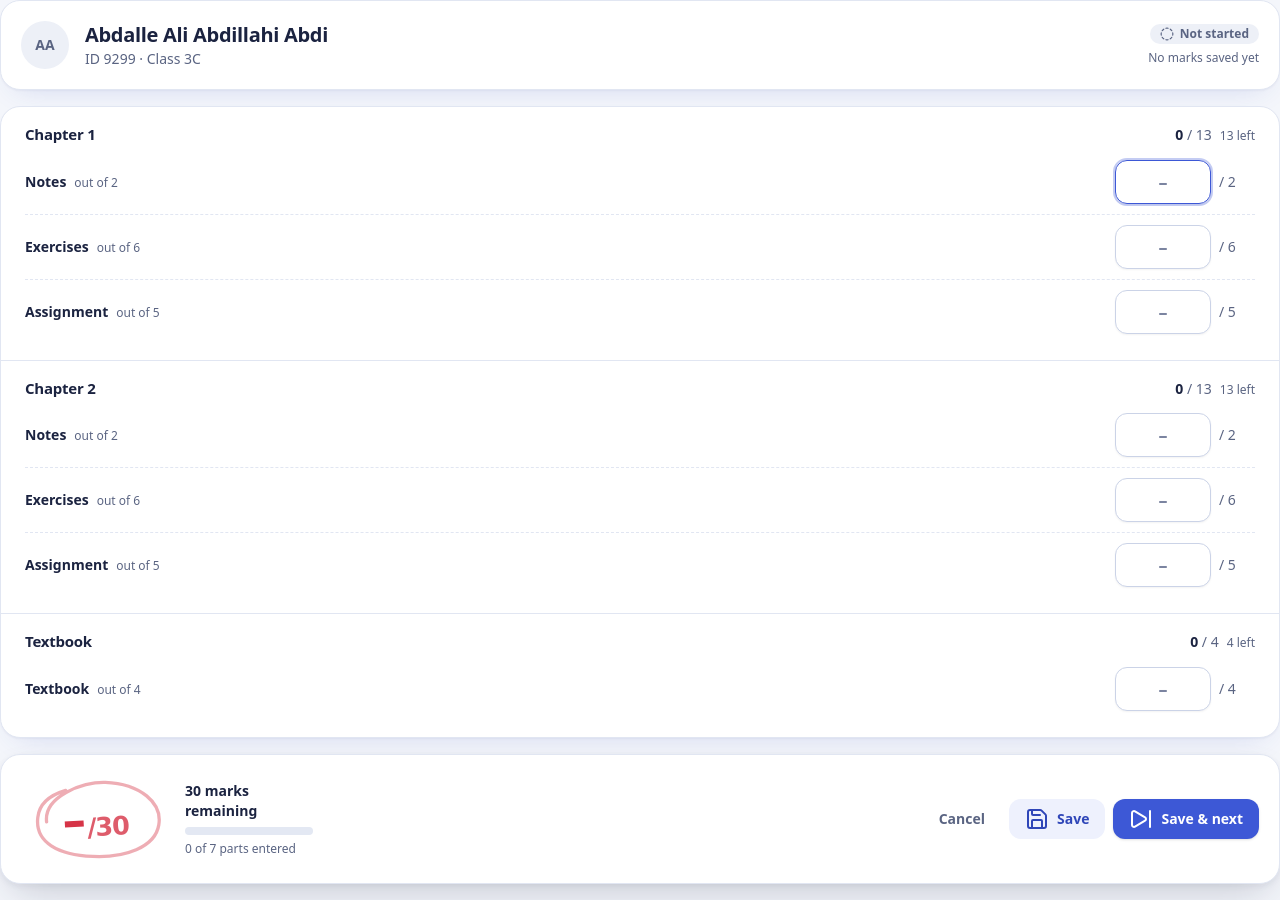
MarkSheet › updates subtotals, total and remaining marks as the teacher types
This screenshot has width=1280, height=900.
Step 1. Type "2" into the field named "Chapter 1 Notes" → (1163, 182), box [1115, 160, 1211, 204]
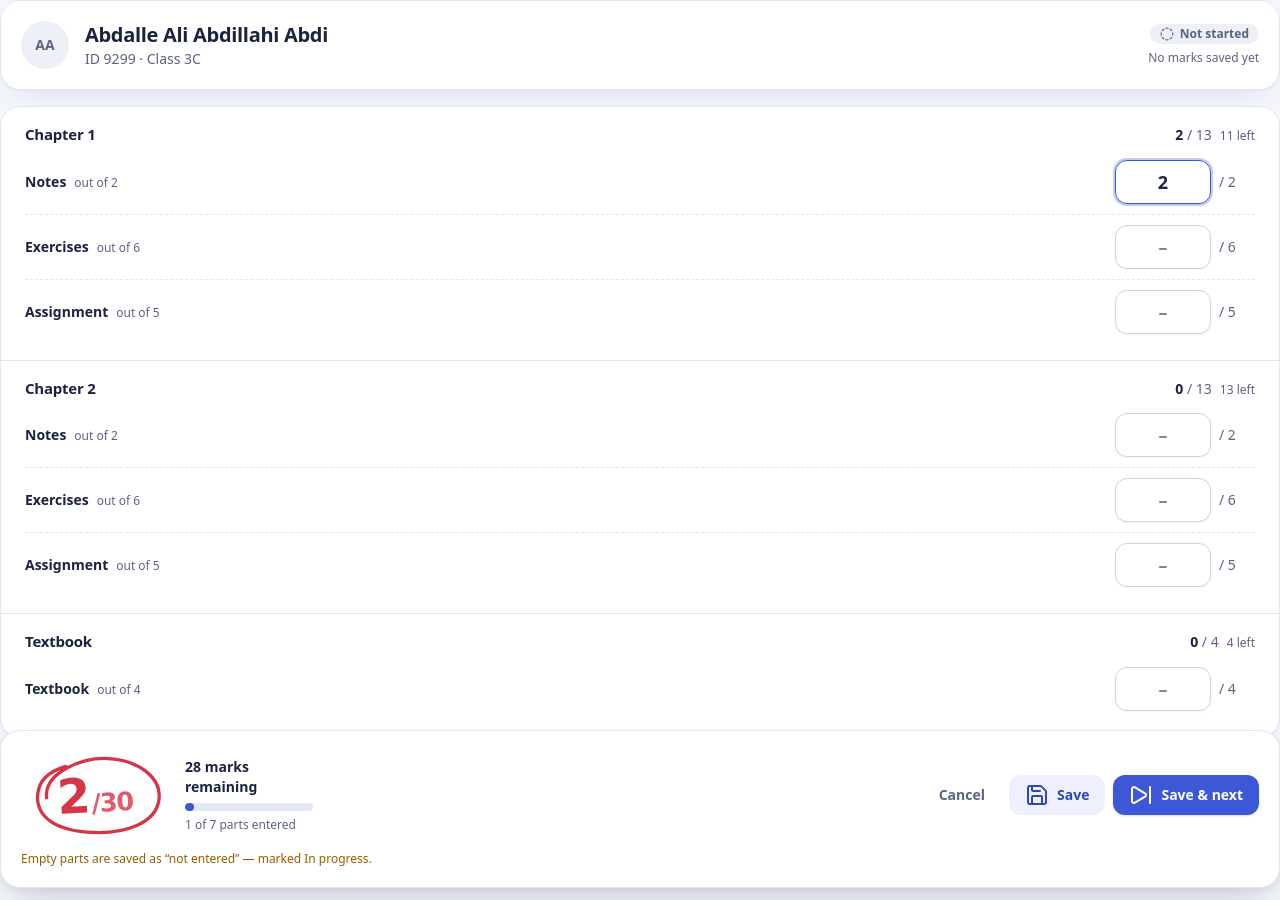
Step 2. Type "5.5" into the field named "Chapter 1 Exercises" → (1163, 246), box [1115, 224, 1211, 268]
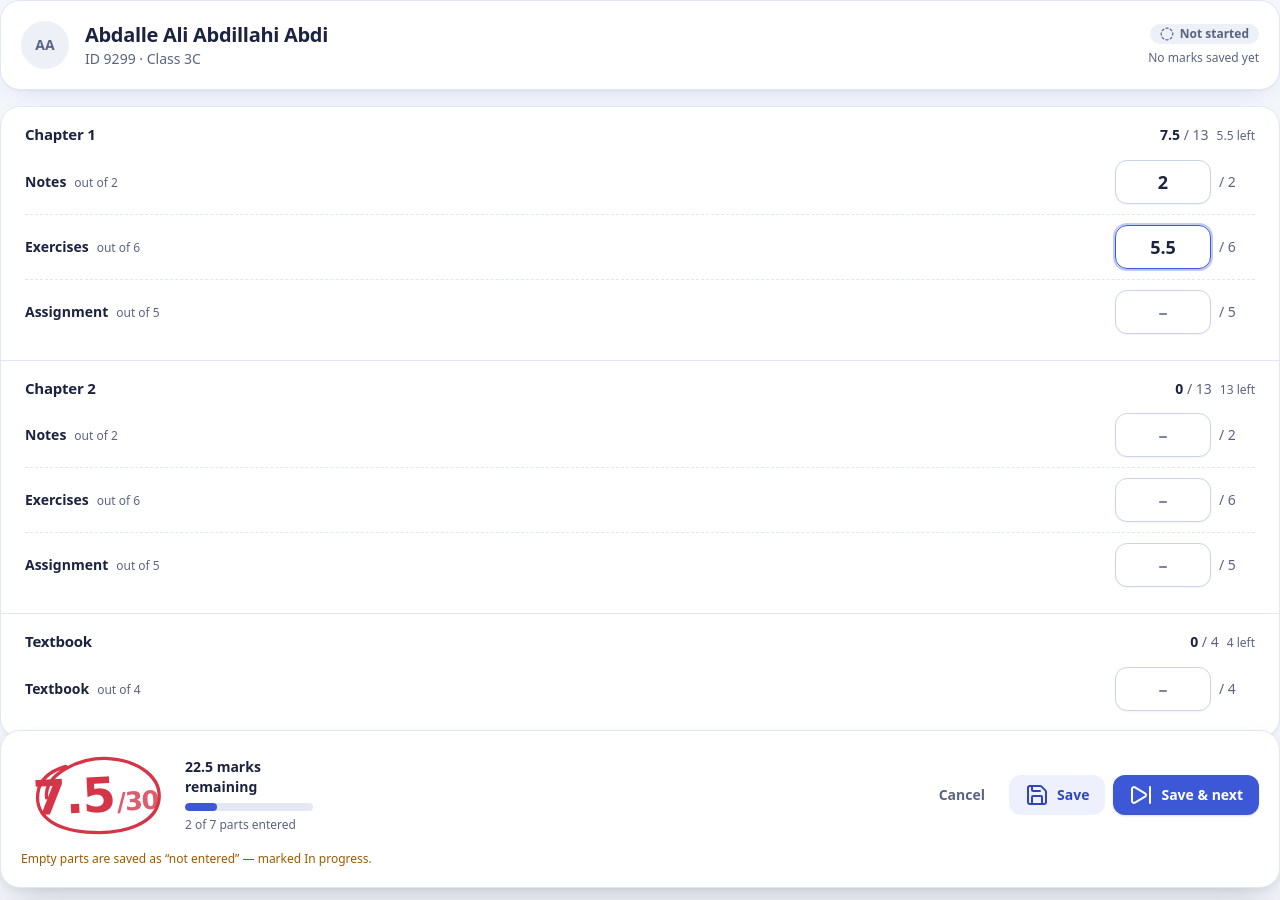
Step 3. Type "3" into the field labelled "Textbook" → (1163, 688), box [1115, 666, 1211, 710]
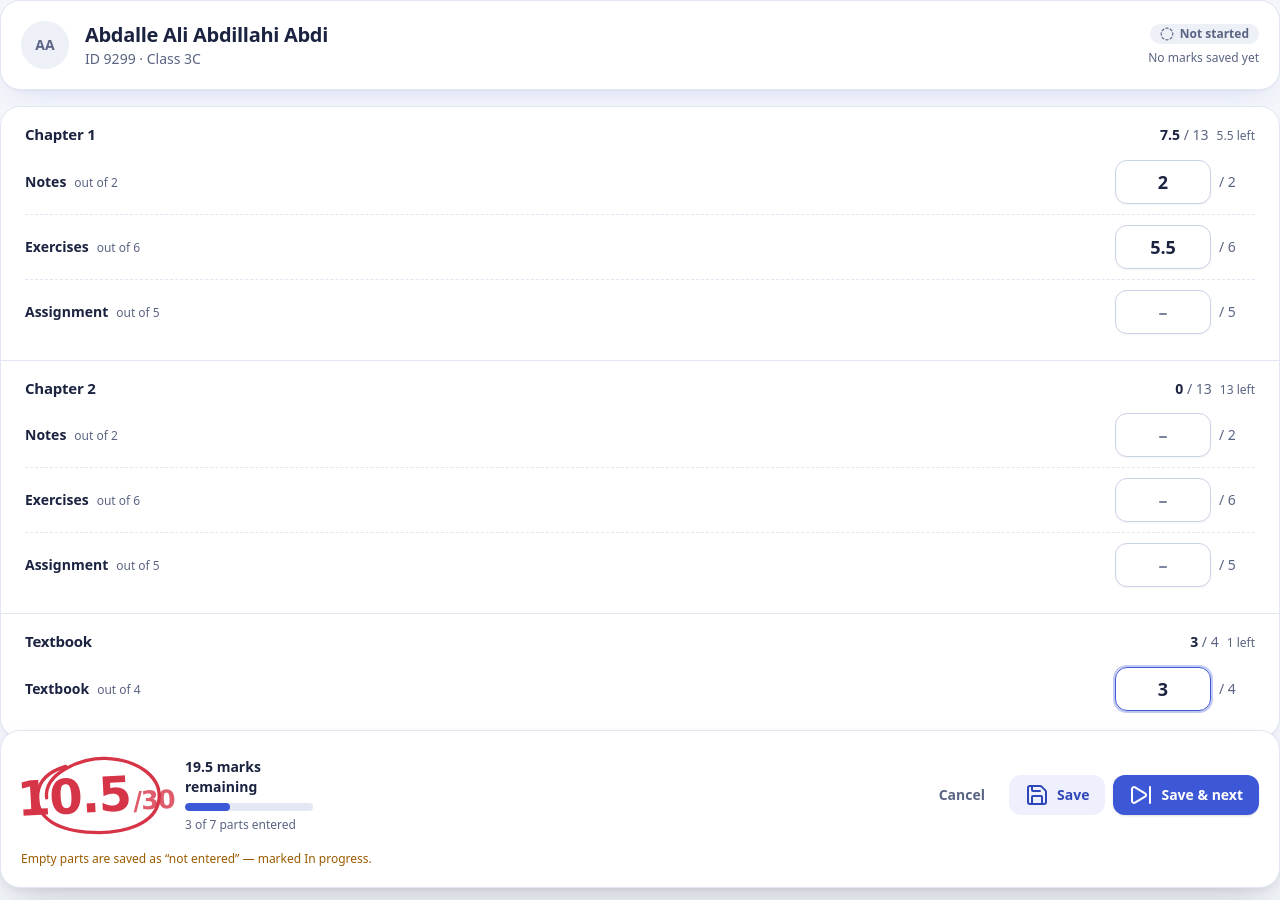
Check: the text "19.5 marks remaining" is shown, box [185, 757, 261, 796]
Check: the text "3 of 7 parts entered" is shown, box [185, 817, 313, 833]
